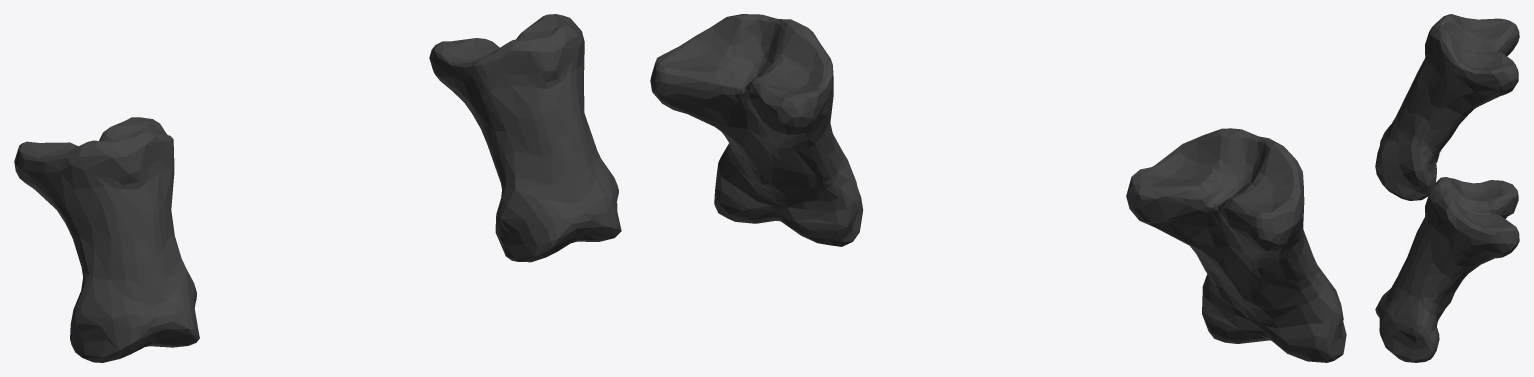
The model's file is skel_FL_phalanx_prox.glb.
The picture shows the model from 3 angles, left to right: view 1: azimuth 30°, elevation 25°; view 2: azimuth 150°, elevation 25°; view 3: azimuth 270°, elevation 25°; orthographic projection. The views are drawn at different scales.
Parts seen in each view (by area): view 1: skel_FL_phalanx_prox; view 2: skel_FL_phalanx_prox; view 3: skel_FL_phalanx_prox.
Boxes of the visible parts, left/top/right/bottom form: skel_FL_phalanx_prox: left=14, top=14, right=621, bottom=362; skel_FL_phalanx_prox: left=650, top=14, right=1346, bottom=362; skel_FL_phalanx_prox: left=1375, top=14, right=1519, bottom=362.
Size of the model in its own units: 0.00424 by 0.00146 by 0.0012.
1 material, 1 textured.
